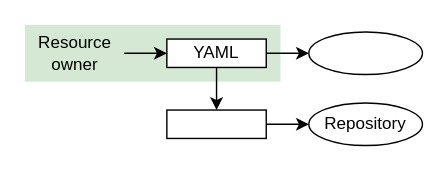
This 447x170 diagram has some shape labels left out. The box of each missing label's shape, as (x1, y1, x2, y2) in pixels:
Web: (307, 31, 422, 75)
XML: (165, 109, 266, 138)
